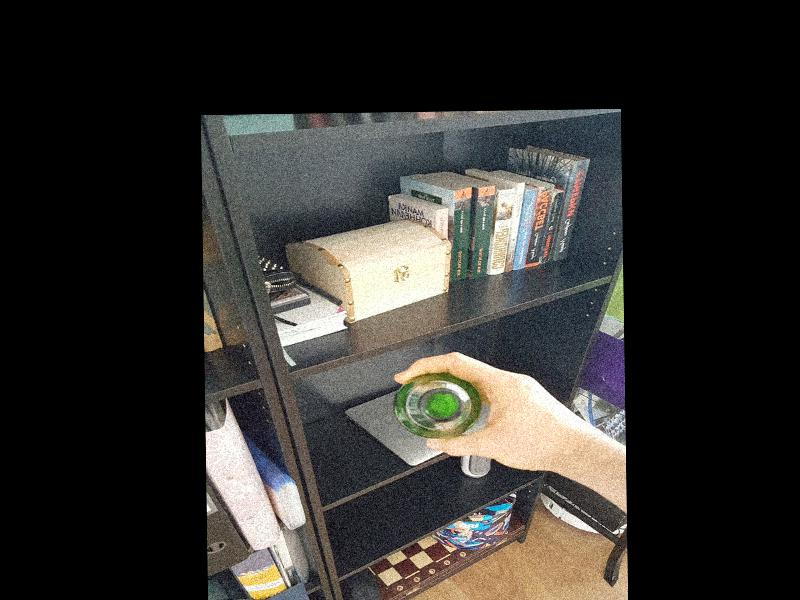Beer: (398, 372, 480, 440)
